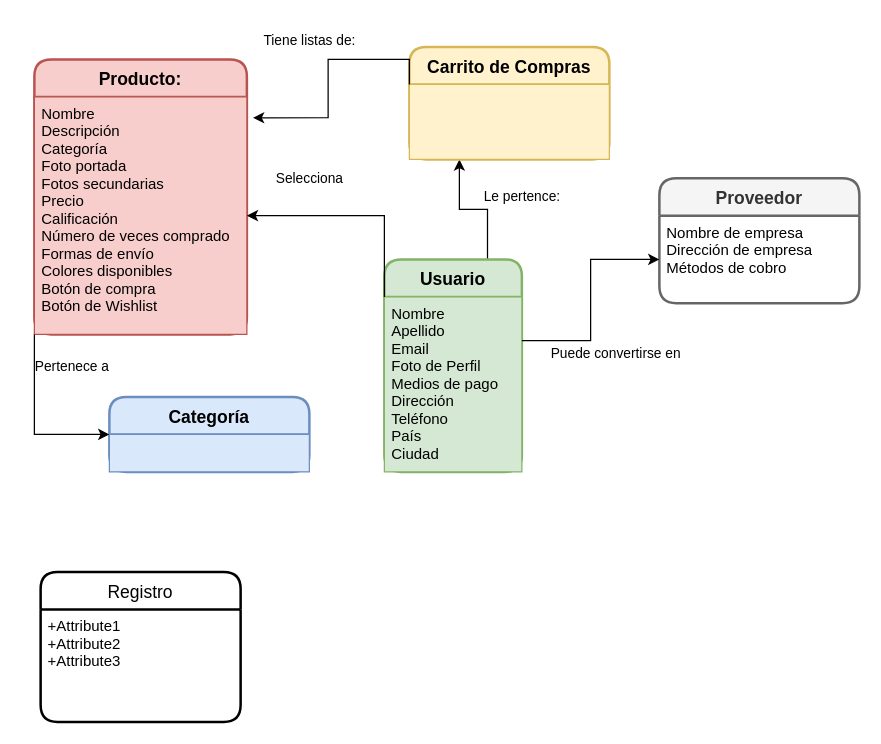
The diagram is 881 pixels wide and 744 high, and some of its shapes have lost their labels. The centre of each missing label's shape, as x and y in pixels:
"Nombre" belongs at pixel 208 452.
"Productos Precio por producto Precio total" belongs at pixel 508 121.
